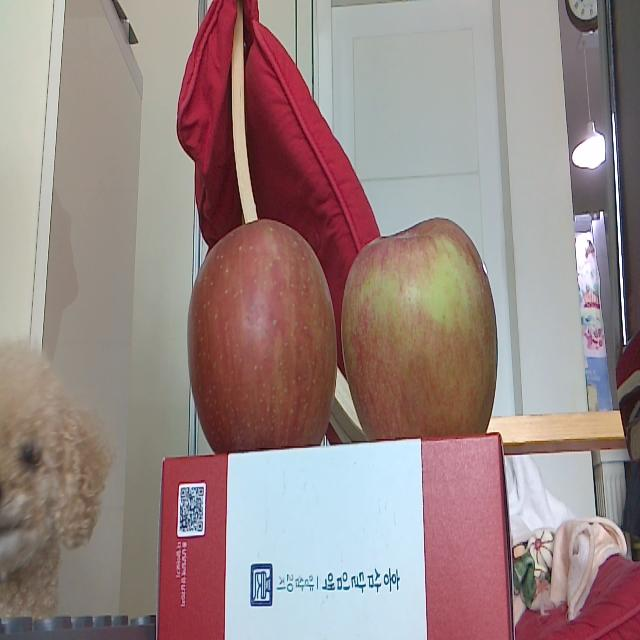apple: (188, 220, 340, 455), (340, 218, 500, 439)
